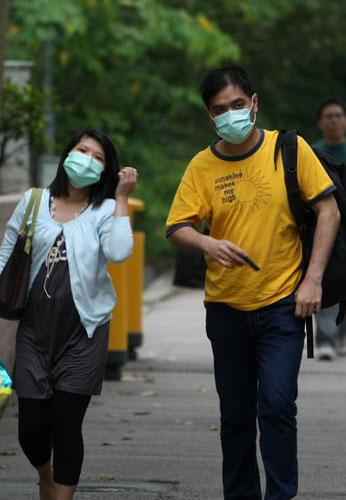yes_mask: (197, 62, 260, 148), (53, 121, 113, 189)
